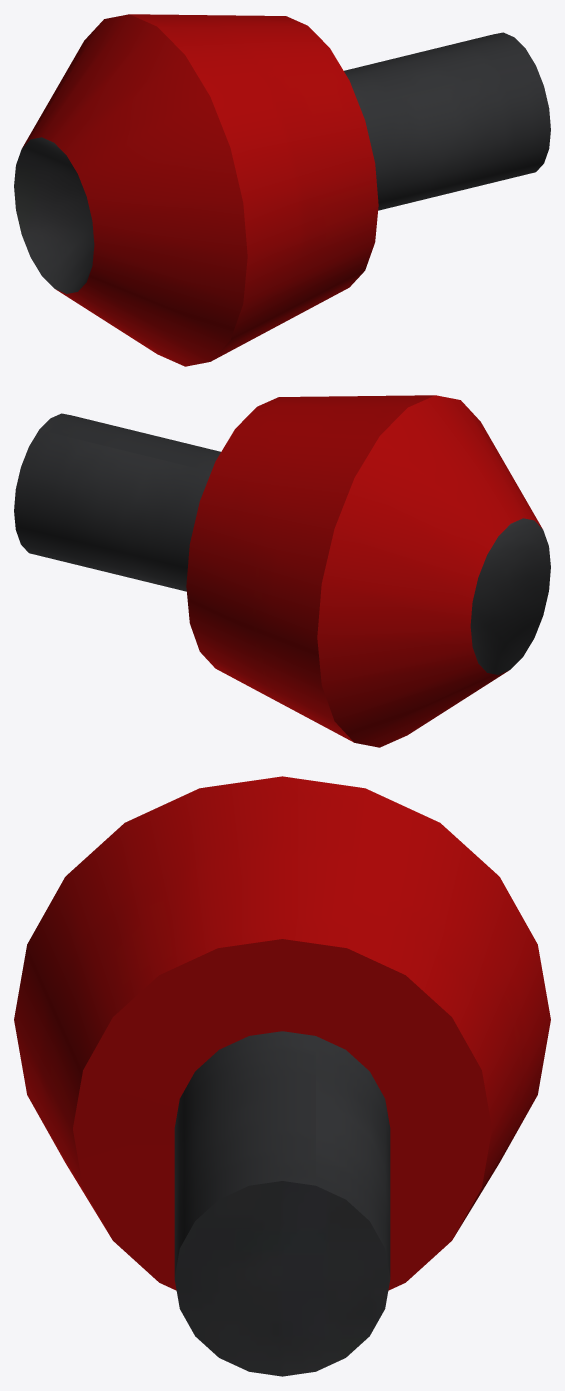
File: FusePlug_Default.fbx
3 views of the same model, one above another, from view 1: azimuth 30°, elevation 25°; view 2: azimuth 150°, elevation 25°; view 3: azimuth 270°, elevation 25° (orthographic). The views are drawn at different scales.
Parts seen in each view (by area): view 1: WirePlug; view 2: WirePlug; view 3: WirePlug.
Part boxes in pixels (left/top/right/bottom): WirePlug: left=14, top=14, right=550, bottom=366; WirePlug: left=14, top=395, right=550, bottom=747; WirePlug: left=14, top=776, right=550, bottom=1376.
Bounding box in the file's own units: 24.76 × 16.83 × 16.83.
2 materials, 2 textured.
